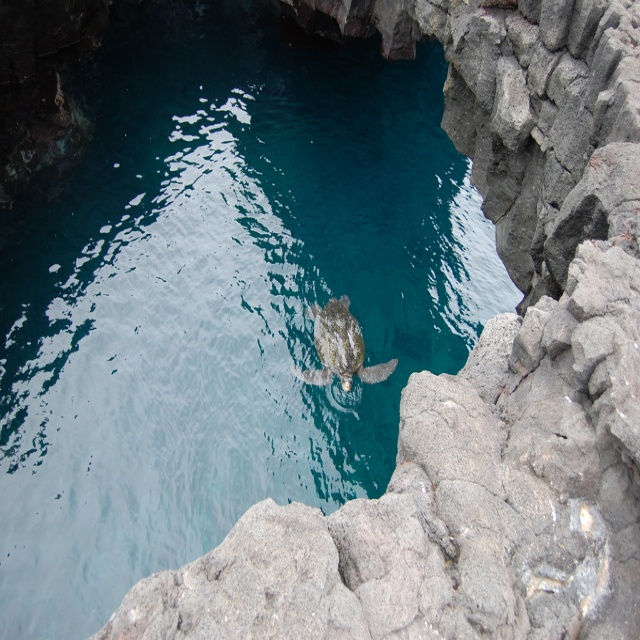Sea turtle: (285, 291, 400, 400)
